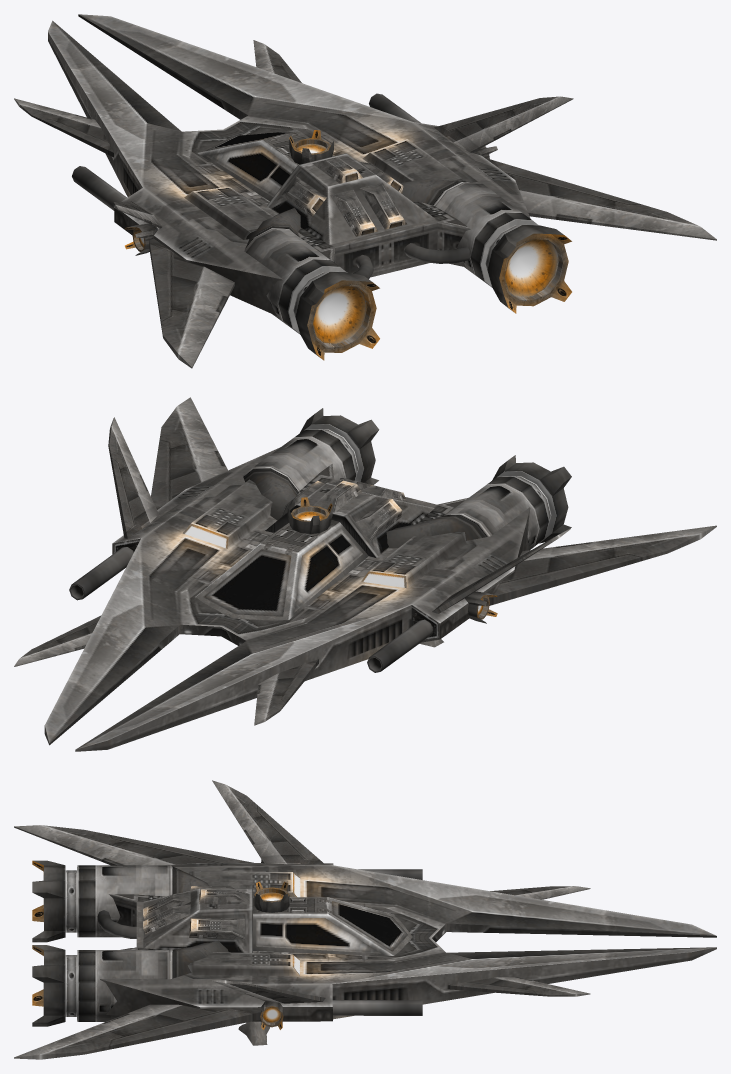
The model's file is Spaceship Broken.fbx.
3 views of the same model, one above another, from view 1: azimuth 30°, elevation 25°; view 2: azimuth 150°, elevation 25°; view 3: azimuth 270°, elevation 25° (orthographic). The views are drawn at different scales.
Parts seen in each view (by area): view 1: Object002, Object017, Object018, Object001, Object014, Object008, Object016, Object003, Object022, Object021, Object006, Object026 (+6 smaller); view 2: Object002, Object001, Object018, Object017, Object008, Object014, Object016, Object003, Object004, Object006, Object013, Object026 (+4 smaller); view 3: Object002, Object001, Object017, Object018, Object014, Object008, Object007, Object004, Object013, Object025, Object016, Object026 (+7 smaller).
Part boxes in pixels (left/top/right/bottom): Object002: left=48, top=14, right=530, bottom=315; Object017: left=400, top=179, right=571, bottom=313; Object018: left=244, top=207, right=379, bottom=360; Object001: left=197, top=130, right=435, bottom=244; Object014: left=485, top=158, right=716, bottom=240; Object008: left=149, top=238, right=234, bottom=368; Object016: left=434, top=96, right=573, bottom=152; Object003: left=14, top=98, right=113, bottom=157; Object022: left=330, top=189, right=377, bottom=236; Object021: left=359, top=182, right=406, bottom=229; Object006: left=72, top=166, right=126, bottom=210; Object026: left=289, top=130, right=333, bottom=164; Object002: left=44, top=447, right=530, bottom=751; Object001: left=195, top=482, right=434, bottom=620; Object018: left=386, top=455, right=571, bottom=550; Object017: left=243, top=408, right=379, bottom=520; Object008: left=487, top=525, right=716, bottom=605; Object014: left=151, top=397, right=227, bottom=509; Object016: left=108, top=417, right=158, bottom=538; Object003: left=254, top=659, right=318, bottom=725; Object004: left=14, top=615, right=101, bottom=666; Object006: left=367, top=619, right=432, bottom=672; Object013: left=69, top=547, right=133, bottom=600; Object026: left=287, top=497, right=332, bottom=533; Object002: left=100, top=863, right=716, bottom=1021; Object001: left=143, top=888, right=412, bottom=955; Object017: left=32, top=940, right=228, bottom=1026; Object018: left=32, top=860, right=209, bottom=942; Object014: left=14, top=1004, right=262, bottom=1059; Object008: left=14, top=825, right=253, bottom=865; Object007: left=212, top=780, right=324, bottom=864; Object004: left=447, top=977, right=590, bottom=996; Object013: left=332, top=1000, right=422, bottom=1015; Object025: left=189, top=917, right=245, bottom=939; Object016: left=212, top=980, right=325, bottom=1003; Object026: left=254, top=881, right=289, bottom=912.
Bounding box in the file's own units: 79906 × 17894 × 102774.
